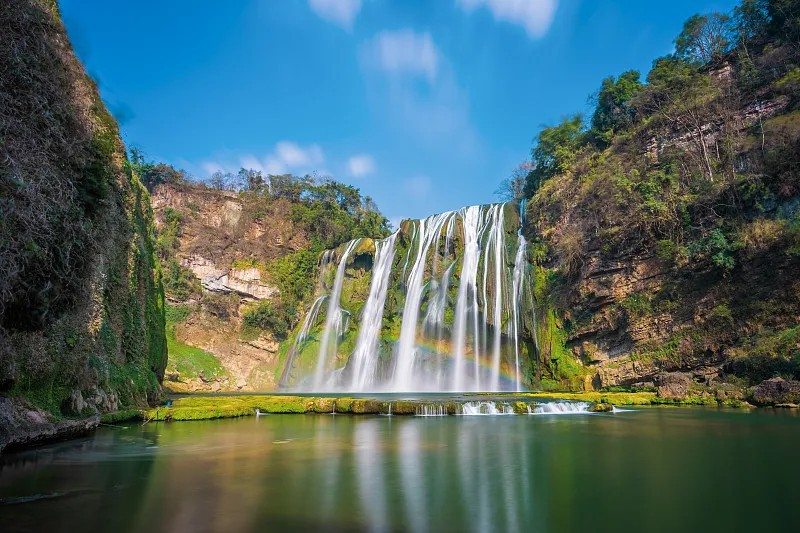Huangguoshu: (281, 203, 526, 392)
